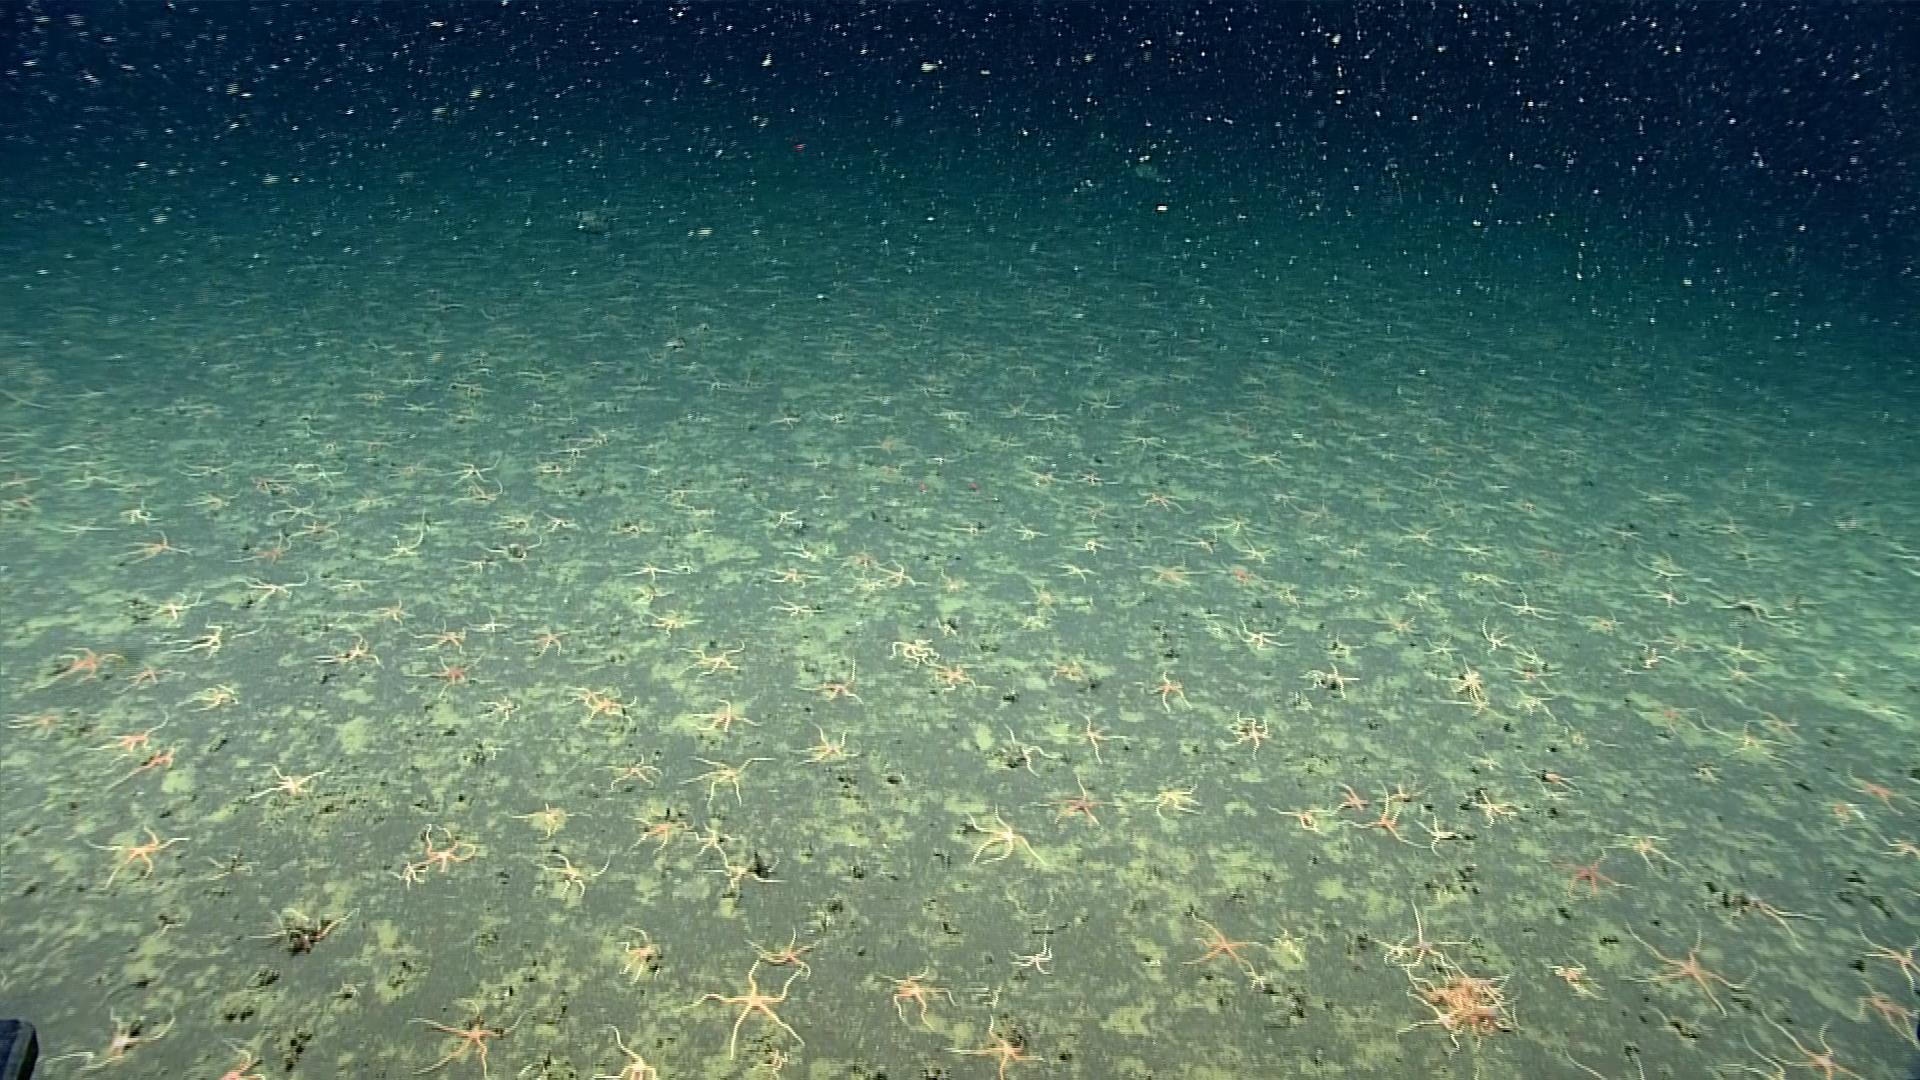brittle_sea_star: (674, 963, 815, 1056), (1623, 920, 1755, 1017), (407, 998, 531, 1079), (1760, 1002, 1883, 1079), (42, 1009, 175, 1079), (82, 820, 193, 890), (1713, 891, 1828, 951), (1175, 910, 1267, 977), (1399, 899, 1478, 975), (1348, 790, 1433, 857), (1034, 773, 1129, 833), (241, 906, 359, 955), (959, 804, 1050, 866), (877, 965, 964, 1030), (1549, 844, 1642, 903), (680, 754, 777, 804), (1701, 716, 1791, 767), (1395, 989, 1468, 1052), (247, 757, 331, 808), (1854, 980, 1919, 1046), (38, 642, 125, 691), (1605, 831, 1685, 878), (541, 852, 615, 902), (744, 920, 818, 971), (1858, 927, 1919, 988), (414, 653, 489, 700), (1837, 767, 1912, 815), (1001, 725, 1064, 781), (794, 655, 864, 704), (1065, 719, 1133, 769), (688, 698, 764, 741), (787, 724, 862, 767), (675, 637, 748, 682), (88, 715, 170, 754), (629, 812, 699, 857), (108, 748, 174, 795), (972, 1019, 1034, 1069), (617, 924, 669, 984), (227, 530, 303, 570), (587, 1036, 665, 1073), (121, 527, 194, 567), (508, 802, 589, 836), (421, 825, 479, 873), (705, 853, 779, 890), (1233, 613, 1298, 655), (593, 753, 663, 790), (1226, 712, 1276, 764), (510, 626, 580, 662), (236, 572, 310, 605), (164, 620, 223, 661), (1009, 932, 1059, 980), (1552, 953, 1600, 1004), (7, 709, 78, 742), (1138, 786, 1208, 819), (1269, 802, 1332, 837), (1375, 778, 1437, 814), (1714, 592, 1785, 622), (1470, 791, 1523, 832), (1143, 674, 1197, 713), (318, 636, 382, 669), (1370, 608, 1427, 645), (930, 665, 996, 696), (1143, 556, 1207, 589), (1443, 658, 1493, 699), (141, 591, 203, 624), (1416, 816, 1468, 856), (409, 624, 469, 657), (471, 538, 546, 564), (1307, 666, 1362, 702), (117, 663, 177, 696), (1638, 555, 1695, 589), (1502, 592, 1559, 626), (1327, 781, 1374, 822), (182, 683, 243, 715), (1441, 692, 1505, 723), (1476, 620, 1527, 657), (887, 637, 940, 673), (381, 526, 427, 566), (690, 819, 733, 860), (582, 696, 640, 727), (443, 459, 502, 488), (294, 513, 344, 546), (363, 600, 421, 628), (760, 567, 831, 589), (872, 559, 920, 591), (268, 498, 323, 526), (1211, 513, 1266, 541), (645, 611, 703, 637), (621, 560, 682, 585), (766, 593, 823, 620), (1230, 538, 1282, 567), (1510, 691, 1559, 721), (1135, 489, 1191, 516), (1506, 667, 1561, 694), (1633, 588, 1696, 611), (1300, 607, 1342, 640), (1422, 633, 1462, 666), (1371, 932, 1414, 964), (1043, 658, 1087, 688), (1179, 529, 1224, 558), (1879, 835, 1919, 866), (1724, 665, 1768, 692), (1402, 525, 1447, 553), (392, 858, 431, 887), (1452, 542, 1497, 566), (1536, 769, 1578, 794), (537, 512, 580, 535), (1584, 615, 1623, 640), (1464, 572, 1514, 592), (1639, 650, 1679, 674), (1725, 641, 1760, 666), (1402, 587, 1437, 611), (1055, 563, 1095, 584), (1685, 765, 1722, 786), (1340, 579, 1369, 605), (1010, 525, 1048, 543), (1077, 537, 1113, 555), (1698, 641, 1724, 663), (1518, 650, 1551, 666)
